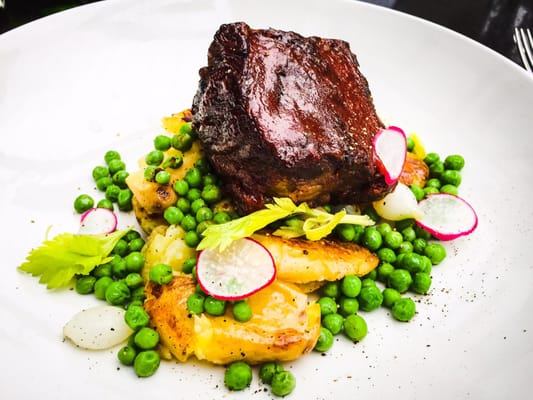burger: (514, 26, 533, 76)
